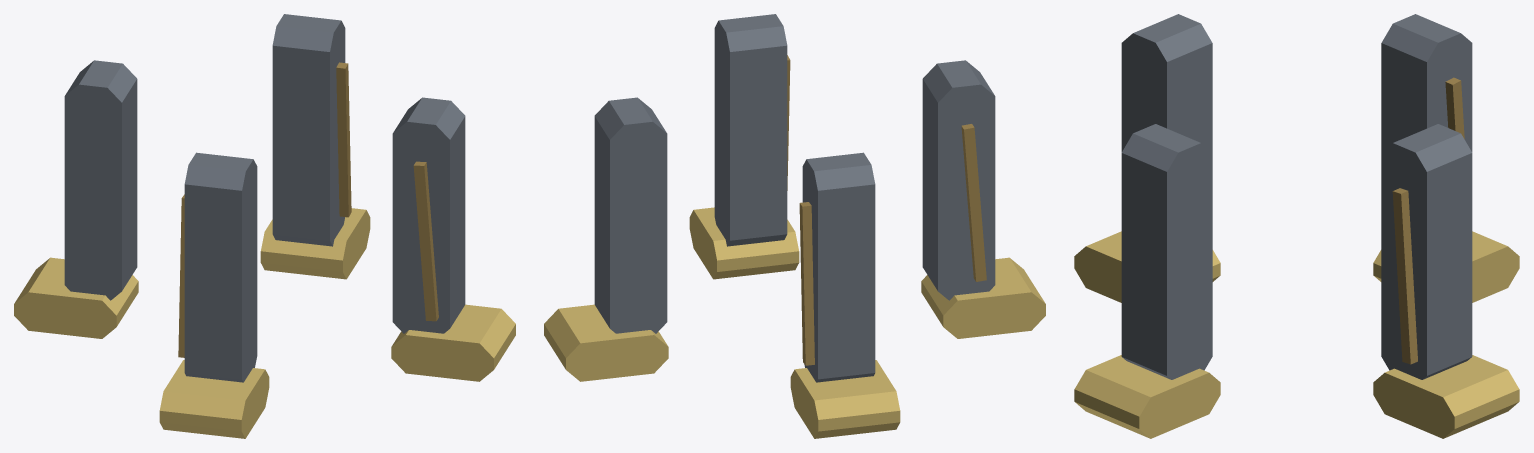
Rendered from four_square.obj.
The picture shows the model from 3 angles, left to right: view 1: azimuth 30°, elevation 25°; view 2: azimuth 150°, elevation 25°; view 3: azimuth 270°, elevation 25°; orthographic projection. The views are drawn at different scales.
Visible parts, largest first — view 1: square_leg_00_square_leg_edge, square_leg_02_square_leg_edge, square_leg_01_square_leg, square_leg_03_square_leg, square_leg_02_square_foot_edge, square_leg_01_square_leg_edge, square_leg_03_square_leg_edge, square_leg_03_square_foot, square_leg_01_square_foot, square_leg_00_square_foot_edge, square_leg_02_square_leg, square_leg_03_square_foot_edge (+9 smaller); view 2: square_leg_03_square_leg_edge, square_leg_01_square_leg_edge, square_leg_00_square_leg, square_leg_02_square_leg, square_leg_01_square_foot_edge, square_leg_00_square_leg_edge, square_leg_02_square_leg_edge, square_leg_00_square_foot, square_leg_02_square_foot, square_leg_03_square_foot_edge, square_leg_03_square_leg, square_leg_00_square_foot_edge (+8 smaller); view 3: square_leg_00_square_leg_edge, square_leg_03_square_leg_edge, square_leg_03_square_leg, square_leg_00_square_leg, square_leg_01_square_leg_edge, square_leg_02_square_leg_edge, square_leg_00_square_foot_edge, square_leg_03_square_foot_edge, square_leg_02_square_leg, square_leg_01_square_leg, square_leg_00_square_foot, square_leg_03_square_foot (+7 smaller).
Part boxes in pixels (x1,y1,x2,y2): square_leg_00_square_leg_edge: (272, 14, 341, 246); square_leg_02_square_leg_edge: (184, 152, 253, 382); square_leg_01_square_leg: (64, 84, 121, 300); square_leg_03_square_leg: (392, 121, 449, 333); square_leg_02_square_foot_edge: (159, 360, 264, 438); square_leg_01_square_leg_edge: (65, 60, 137, 290); square_leg_03_square_leg_edge: (393, 97, 465, 328); square_leg_03_square_foot: (391, 335, 493, 381); square_leg_01_square_foot: (14, 292, 116, 338); square_leg_00_square_foot_edge: (260, 208, 365, 279); square_leg_02_square_leg: (242, 159, 257, 382); square_leg_03_square_foot_edge: (392, 304, 515, 369); square_leg_03_square_leg_edge: (718, 14, 787, 246); square_leg_01_square_leg_edge: (806, 152, 875, 382); square_leg_00_square_leg: (610, 121, 667, 333); square_leg_02_square_leg: (938, 84, 995, 300); square_leg_01_square_foot_edge: (795, 360, 900, 438); square_leg_00_square_leg_edge: (594, 97, 666, 328); square_leg_02_square_leg_edge: (922, 60, 994, 290); square_leg_00_square_foot: (566, 335, 668, 381); square_leg_02_square_foot: (943, 292, 1045, 338); square_leg_03_square_foot_edge: (694, 207, 799, 279); square_leg_03_square_leg: (714, 21, 729, 245); square_leg_00_square_foot_edge: (544, 304, 667, 369); square_leg_00_square_leg_edge: (1393, 124, 1472, 379); square_leg_03_square_leg_edge: (1121, 124, 1200, 379); square_leg_03_square_leg: (1167, 143, 1212, 379); square_leg_00_square_leg: (1381, 143, 1426, 379); square_leg_01_square_leg_edge: (1381, 14, 1460, 152); square_leg_02_square_leg_edge: (1133, 14, 1212, 152); square_leg_00_square_foot_edge: (1385, 355, 1519, 438); square_leg_03_square_foot_edge: (1074, 355, 1208, 438); square_leg_02_square_leg: (1121, 33, 1166, 151); square_leg_01_square_leg: (1427, 33, 1472, 151); square_leg_00_square_foot: (1373, 372, 1454, 438); square_leg_03_square_foot: (1139, 372, 1220, 438).
Size of the model in its own units: 0.9687 by 0.64 by 0.9687.
